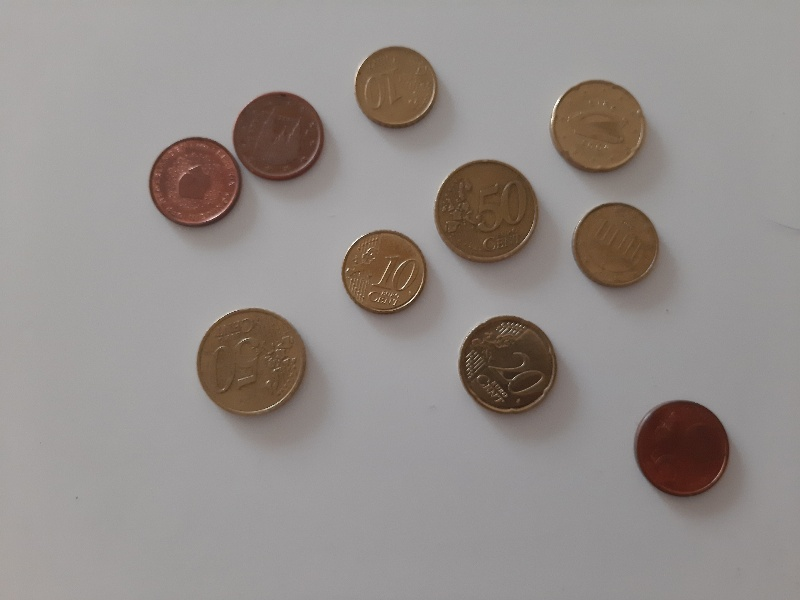10 cent: (569, 200, 661, 289), (340, 229, 428, 317), (352, 44, 439, 130)
20 cent: (456, 313, 559, 416), (547, 78, 650, 176)
5 cent: (632, 399, 731, 499), (231, 89, 327, 184), (147, 136, 243, 230)
50 cent: (195, 306, 309, 420), (432, 157, 543, 264)
